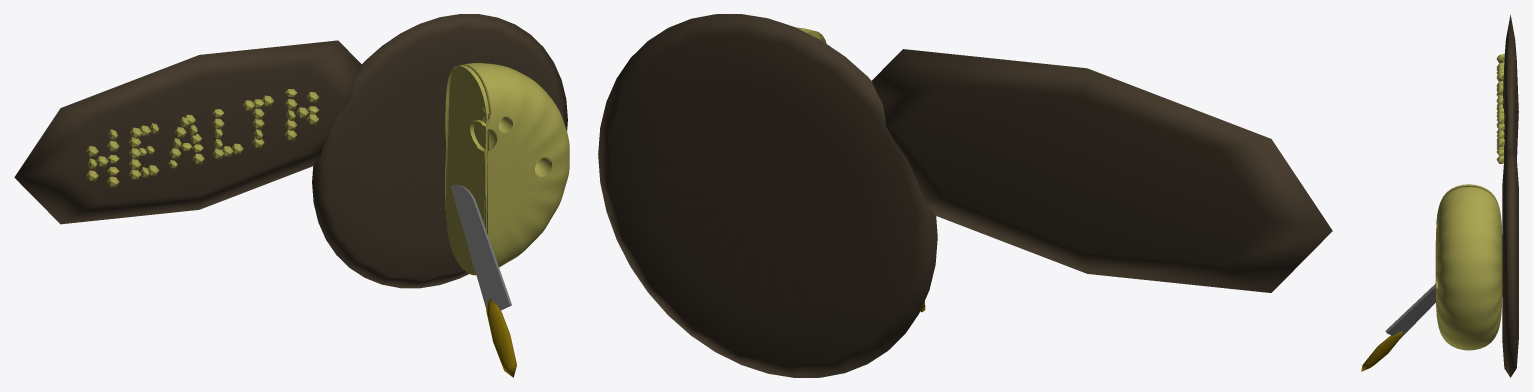
Rendered from 50prcHealth_Bar.fbx.
3 renders of one model, left to right at view 1: azimuth 30°, elevation 25°; view 2: azimuth 150°, elevation 25°; view 3: azimuth 270°, elevation 25°, orthographic. The views are drawn at different scales.
Parts seen in each view (by area): view 1: pCube3, cheeseboard, polySurface1, pCube1, pCube2, polySurface2; view 2: cheeseboard, pCube3; view 3: polySurface1, cheeseboard, pCube3, pCube1, pCube2, polySurface2.
Boxes of the visible parts, x1=… form: pCube3: x1=14, y1=40, x2=361, y2=224; cheeseboard: x1=312, y1=14, x2=567, y2=288; polySurface1: x1=445, y1=63, x2=569, y2=275; pCube1: x1=451, y1=184, x2=511, y2=310; pCube2: x1=486, y1=298, x2=516, y2=377; polySurface2: x1=445, y1=65, x2=556, y2=180; cheeseboard: x1=598, y1=14, x2=937, y2=377; pCube3: x1=872, y1=49, x2=1332, y2=292; polySurface1: x1=1435, y1=185, x2=1502, y2=350; cheeseboard: x1=1502, y1=149, x2=1518, y2=377; pCube3: x1=1502, y1=14, x2=1518, y2=159; pCube1: x1=1385, y1=284, x2=1435, y2=338; pCube2: x1=1361, y1=331, x2=1402, y2=371; polySurface2: x1=1436, y1=184, x2=1501, y2=307.
Size of the model in its own units: 29.91 by 15.79 by 9.5.
